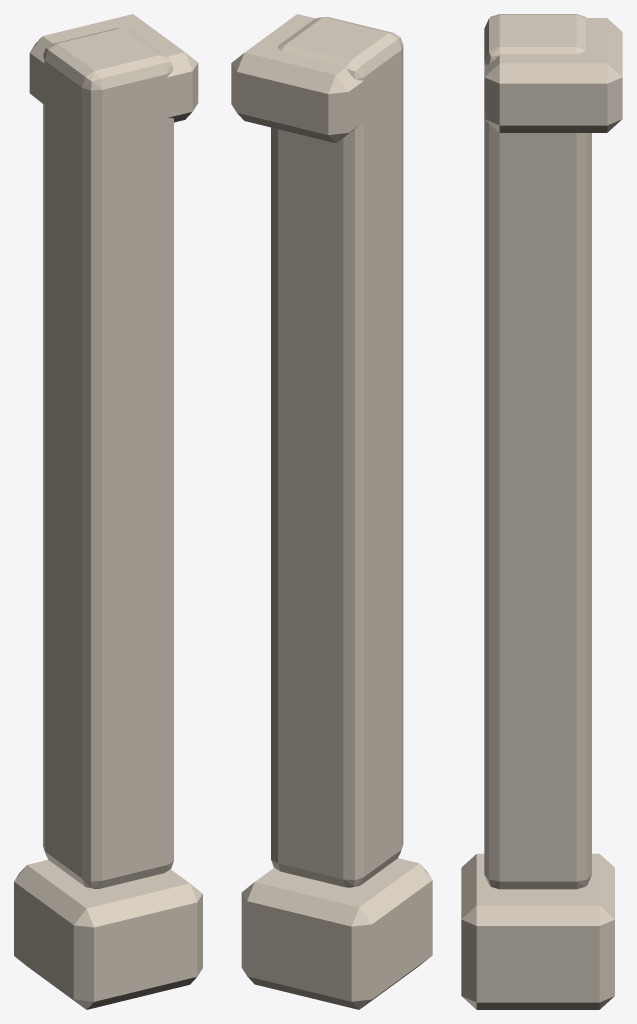
The model's file is SM_VK_Corner_Shed_Raised.fbx.
3 renders of one model, left to right at view 1: azimuth 30°, elevation 25°; view 2: azimuth 150°, elevation 25°; view 3: azimuth 270°, elevation 25°, orthographic. The views are drawn at different scales.
Parts seen in each view (by area): view 1: SM_VK_Corner_Shed_Raised.001; view 2: SM_VK_Corner_Shed_Raised.001; view 3: SM_VK_Corner_Shed_Raised.001.
Part boxes in pixels (left/top/right/bottom): SM_VK_Corner_Shed_Raised.001: left=14, top=14, right=202, bottom=1009; SM_VK_Corner_Shed_Raised.001: left=231, top=14, right=432, bottom=1009; SM_VK_Corner_Shed_Raised.001: left=461, top=14, right=622, bottom=1009.
Size of the model in its own units: 0.42 by 2.74 by 0.42.
